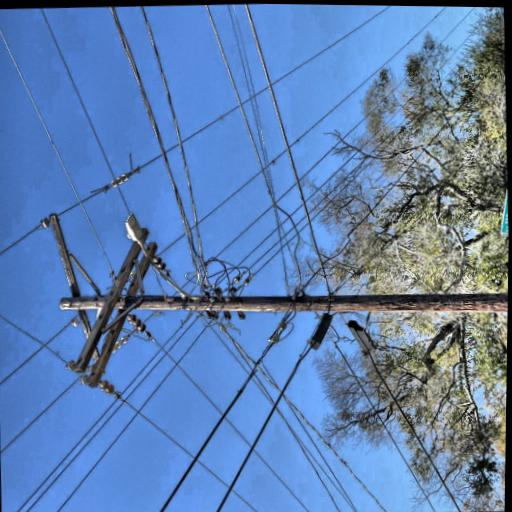insulator: (162, 176, 174, 188), (74, 209, 84, 220)
pole: (57, 193, 120, 512)
street light: (97, 267, 181, 359)
